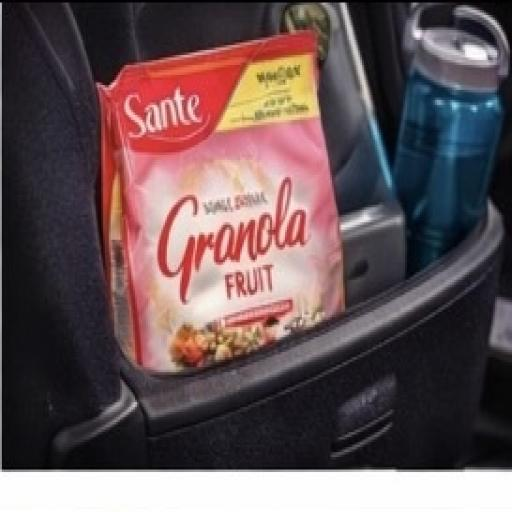granola: (54, 27, 369, 391)
